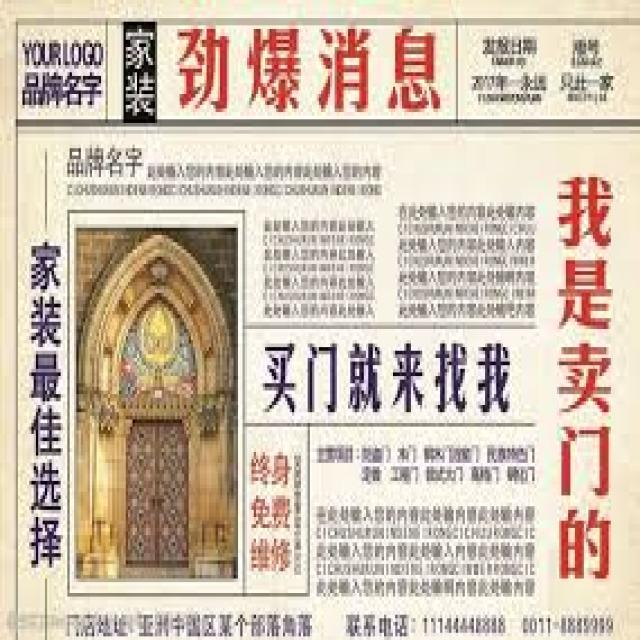paper: (1, 1, 640, 640)
